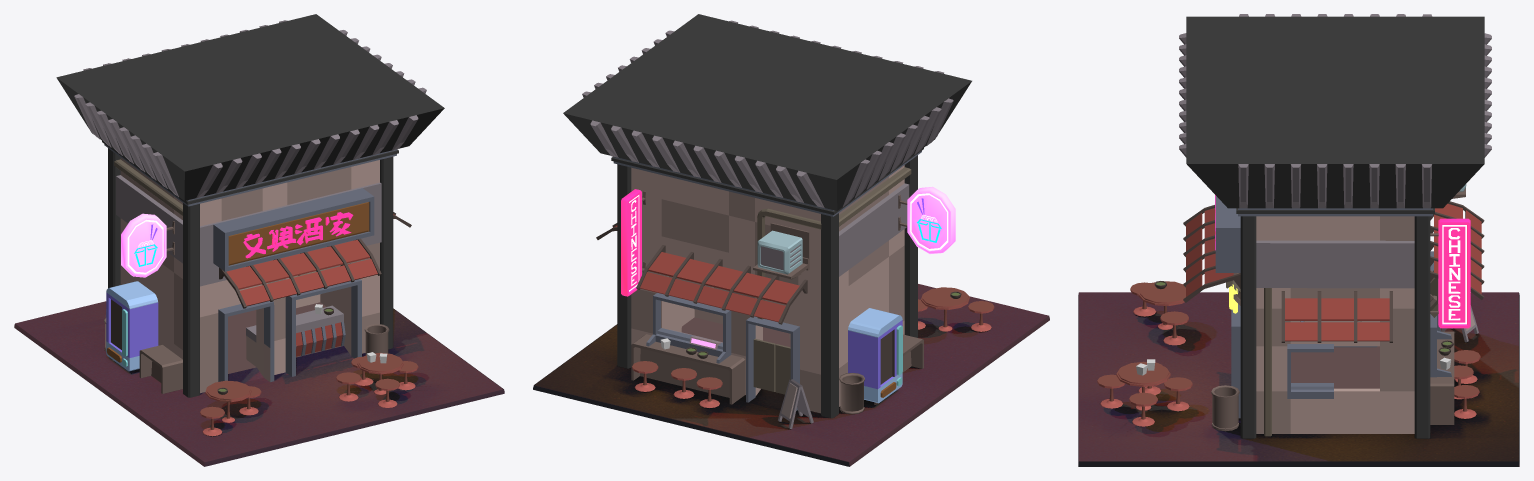
Rendered from ChineseResturant Modded (1).glb.
The picture shows the model from 3 angles, left to right: view 1: azimuth 30°, elevation 25°; view 2: azimuth 150°, elevation 25°; view 3: azimuth 270°, elevation 25°; orthographic projection. The views are drawn at different scales.
Visible parts, largest first — view 1: Building; view 2: Building; view 3: Building.
Boxes of the visible parts, x1,y1,x2,y2 form: Building: [14, 14, 504, 466]; Building: [533, 14, 1049, 466]; Building: [1078, 14, 1519, 466].
Size of the model in its own units: 51 by 41.35 by 55.94.
Materials: 28 (1 with a texture image).
